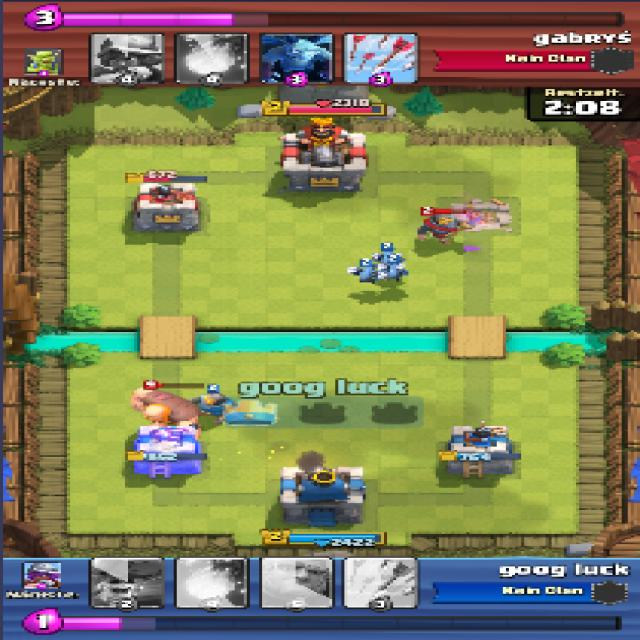Enemy-Giant: (123, 387, 198, 438)
Enemy-Knight: (415, 214, 476, 243)
Player-Knight: (193, 388, 239, 417)
Player-Minion: (352, 264, 381, 284), (382, 264, 407, 280), (377, 250, 400, 266)
